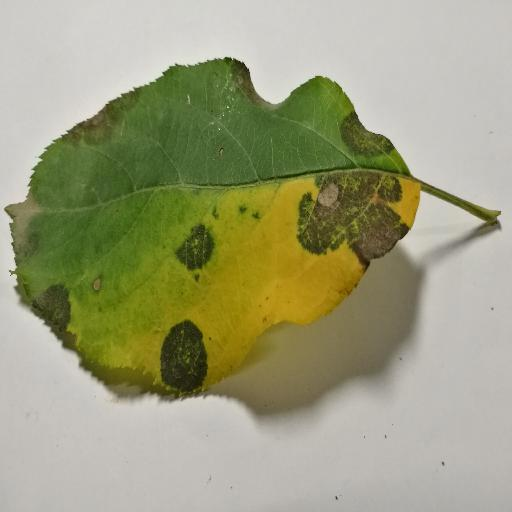Brown_Spot: (263, 179, 406, 270), (58, 84, 126, 145), (223, 60, 283, 114), (28, 284, 81, 339), (168, 324, 206, 390), (168, 221, 209, 275), (336, 116, 398, 151)
